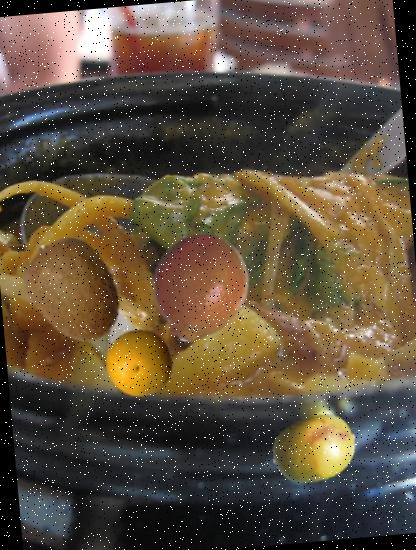Grapefruit: (102, 326, 178, 401)
Kiwi: (15, 232, 134, 350)
Pomelo: (268, 403, 361, 496)
Tangelo: (140, 229, 260, 348)
